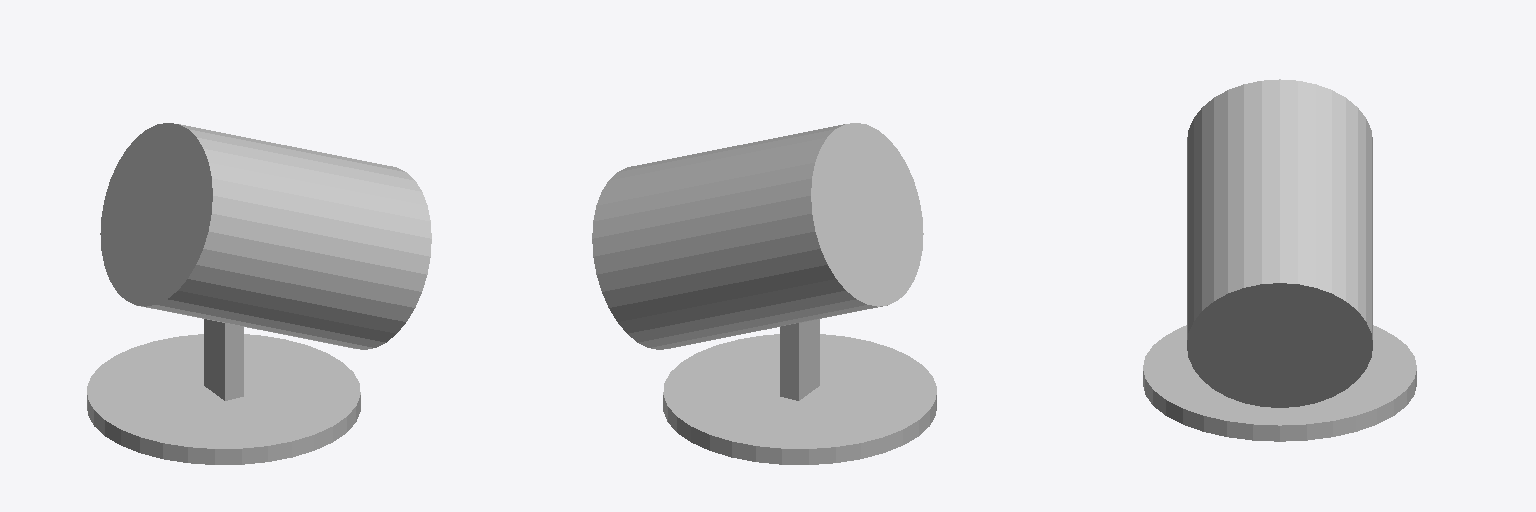
File: spotlight.obj
3 views of the same model, side by side, from view 1: azimuth 30°, elevation 25°; view 2: azimuth 150°, elevation 25°; view 3: azimuth 270°, elevation 25° (orthographic).
Visible parts, largest first — view 1: Cylinder.001, Cylinder, Cube; view 2: Cylinder.001, Cylinder, Cube; view 3: Cylinder.001, Cylinder.
Part boxes in pixels (x1,y1,x2,y2): Cylinder.001: (100, 123, 431, 349); Cylinder: (87, 334, 360, 464); Cube: (204, 319, 243, 400); Cylinder.001: (592, 123, 923, 349); Cylinder: (663, 334, 936, 464); Cube: (780, 319, 819, 400); Cylinder.001: (1187, 79, 1372, 407); Cylinder: (1143, 325, 1416, 441).
Size of the model in its own units: 2.54 by 2.31 by 2.